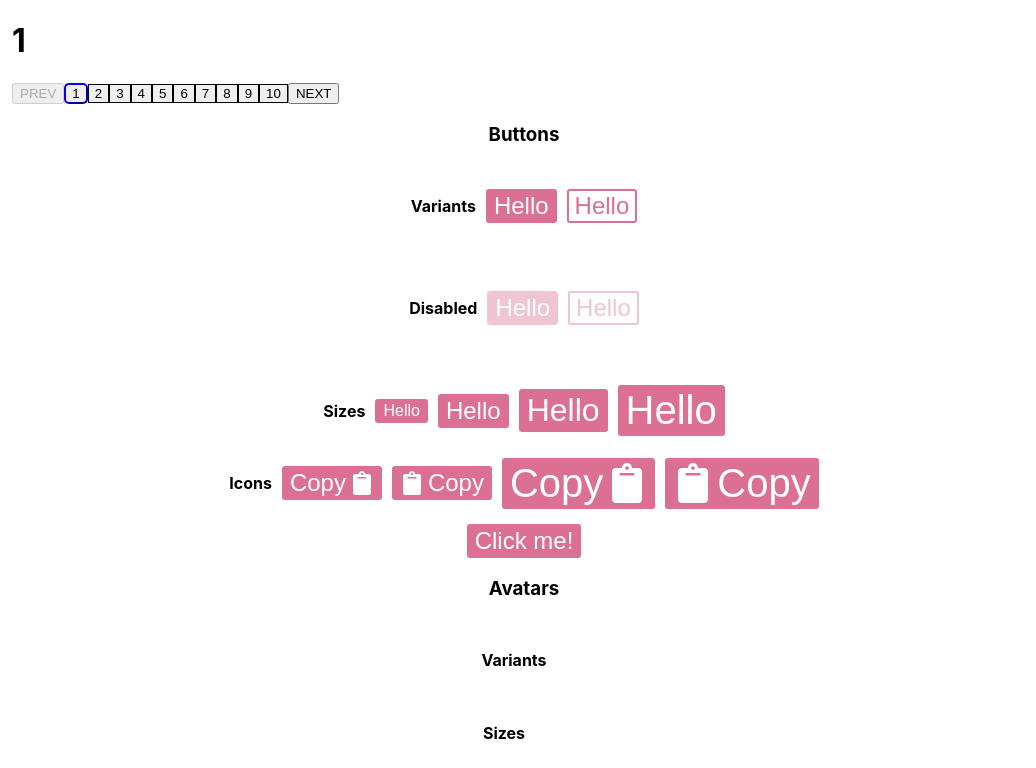
Test: Should  increase and decrease current value
Expected: the heading with test id "currVal" reads "1", [12, 21, 26, 60]
Expected: the button with test id "prevBtn" is disabled, [12, 83, 64, 104]
Click the button with test id "nextBtn" at (314, 93), box [288, 83, 339, 104]
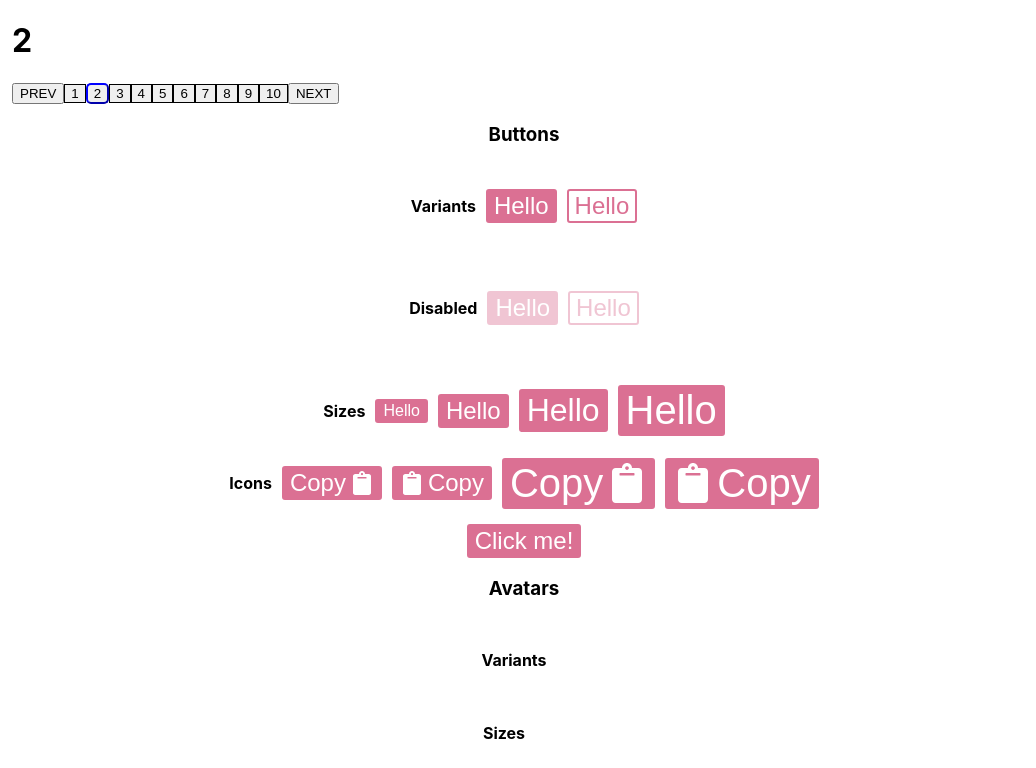
Expected: the heading with test id "currVal" reads "2", [12, 21, 32, 60]
Expected: the button with test id "prevBtn" is enabled, [12, 83, 64, 104]
Click the button with test id "nextBtn" at (314, 93), box [288, 83, 339, 104]
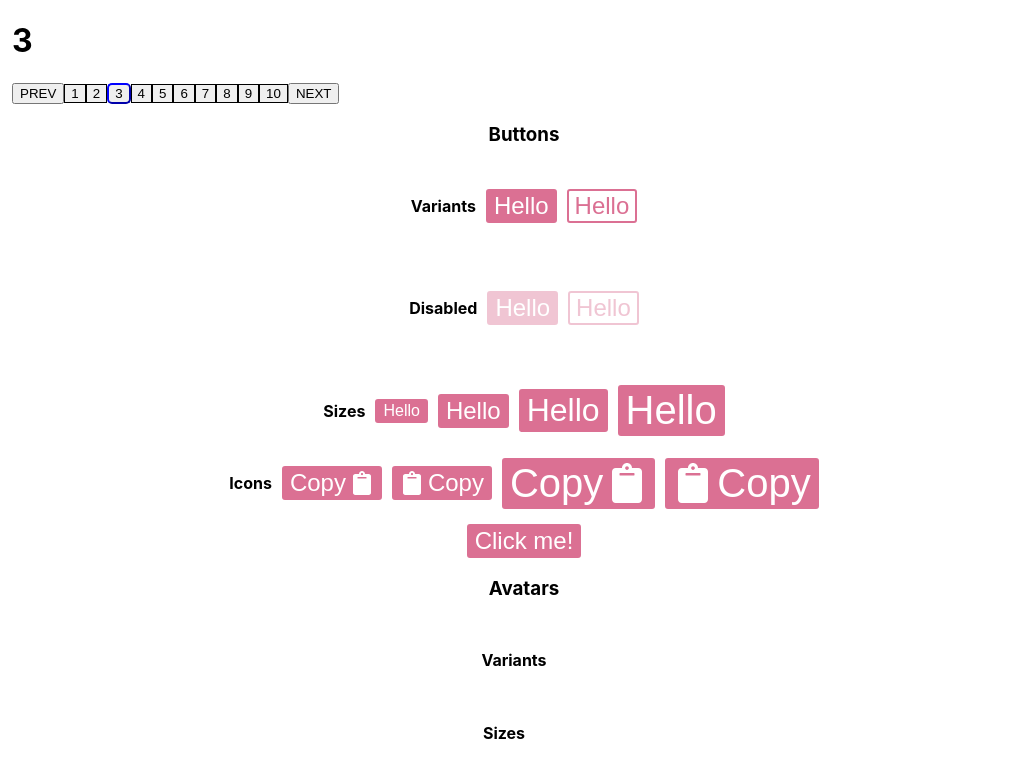
Expected: the heading with test id "currVal" reads "3", [12, 21, 33, 60]
Click the button with test id "prevBtn" at (38, 93), box [12, 83, 64, 104]
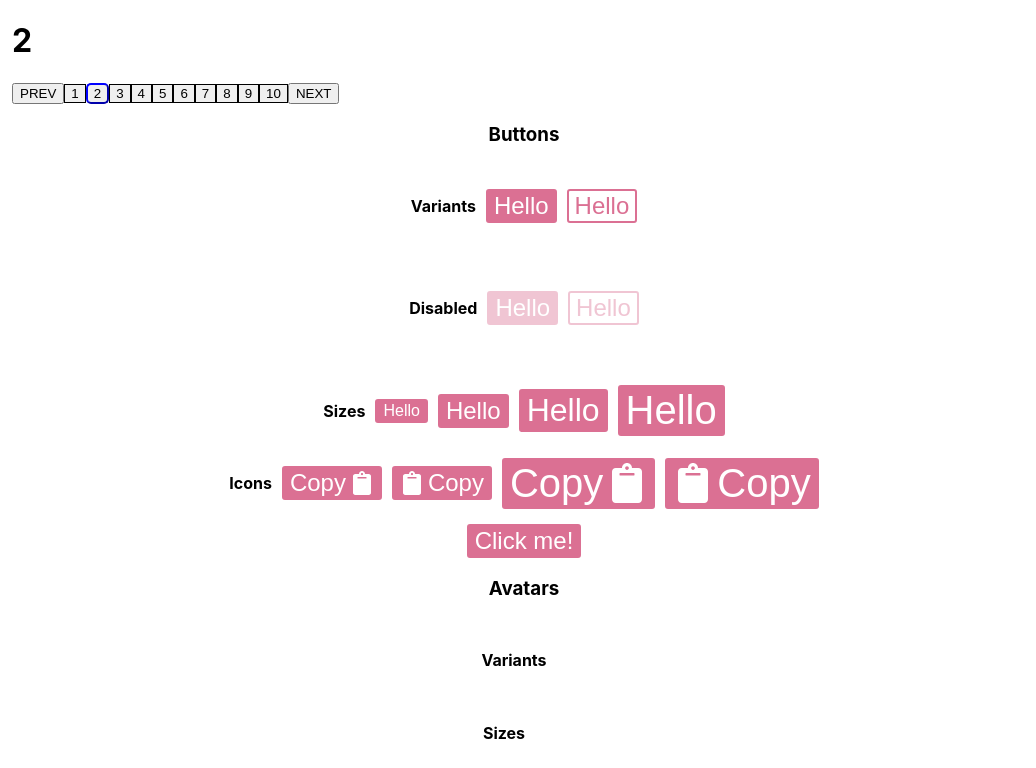
Expected: the heading with test id "currVal" reads "2", [12, 21, 32, 60]
Click the button with test id "prevBtn" at (38, 93), box [12, 83, 64, 104]
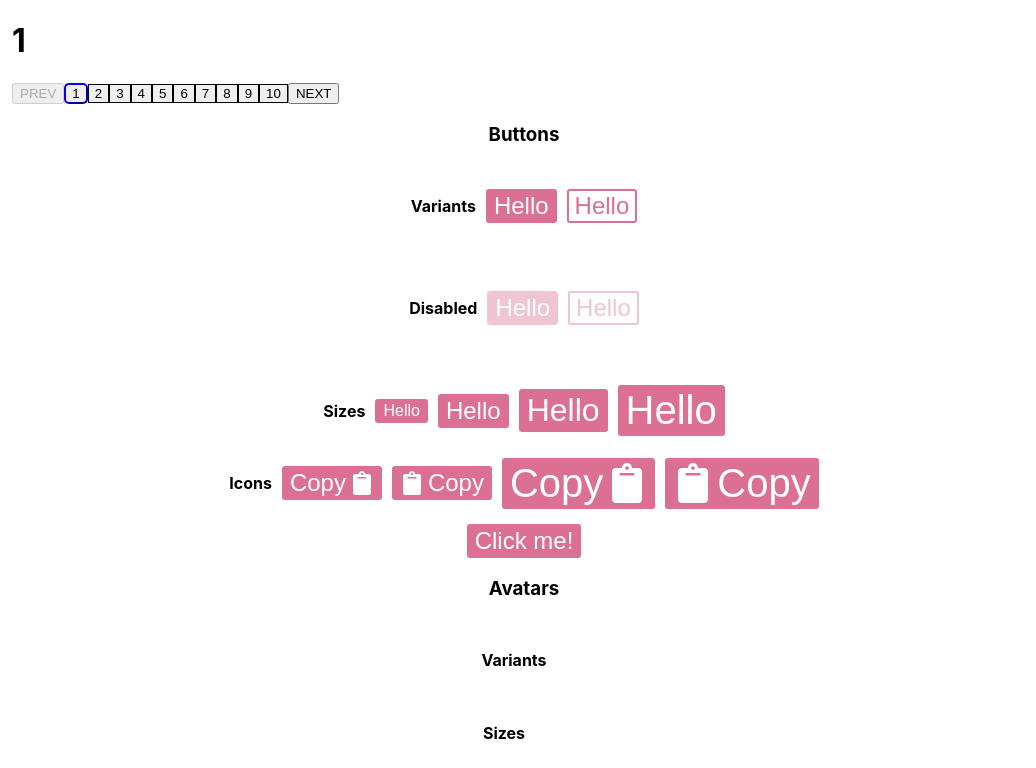
Expected: the heading with test id "currVal" reads "1", [12, 21, 26, 60]
Expected: the button with test id "prevBtn" is disabled, [12, 83, 64, 104]
